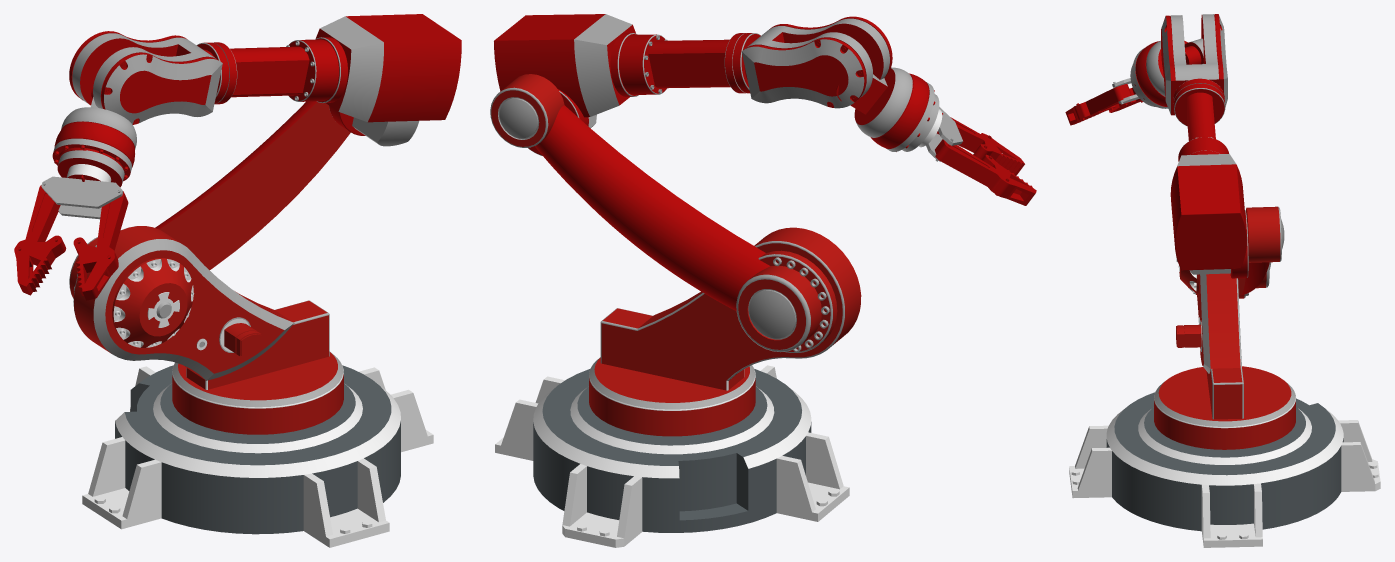
Rendered from RobotArm2.glb.
The picture shows the model from 3 angles, left to right: view 1: azimuth 30°, elevation 25°; view 2: azimuth 150°, elevation 25°; view 3: azimuth 270°, elevation 25°; orthographic projection. The views are drawn at different scales.
Visible parts, largest first — view 1: base, Part2, Part4, Part3, Part5, Part7, Part6, Part8.001, Part8; view 2: base, Part3, Part2, Part4, Part5, Part6, Part8.001, Part7, Part8; view 3: base, Part2, Part4, Part5, Part3, Part6, Part8.
Boxes of the visible parts, x1,y1,x2,y2 form: base: (82, 365, 433, 547); Part2: (73, 226, 343, 434); Part4: (196, 14, 461, 146); Part3: (69, 101, 350, 298); Part5: (69, 31, 222, 124); Part7: (41, 150, 124, 219); Part6: (52, 86, 136, 181); Part8.001: (14, 185, 66, 295); Part8: (73, 191, 128, 300); base: (495, 365, 849, 547); Part3: (490, 74, 837, 352); Part2: (589, 227, 861, 436); Part4: (494, 14, 760, 155); Part5: (741, 16, 892, 108); Part6: (836, 67, 935, 151); Part8.001: (935, 139, 1036, 205); Part7: (902, 94, 962, 161); Part8: (937, 117, 1024, 175); base: (1069, 392, 1380, 547); Part2: (1154, 257, 1295, 449); Part4: (1170, 78, 1248, 278); Part5: (1161, 14, 1227, 115); Part3: (1238, 206, 1284, 298); Part6: (1132, 38, 1203, 108); Part8: (1065, 84, 1131, 125).
Size of the model in its own units: 0.5859 by 0.5587 by 0.3985.
